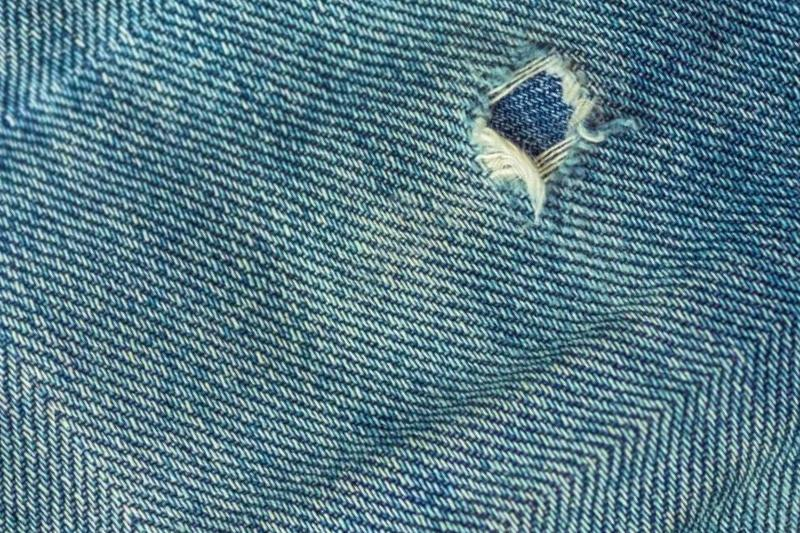hole: (460, 52, 622, 192)
